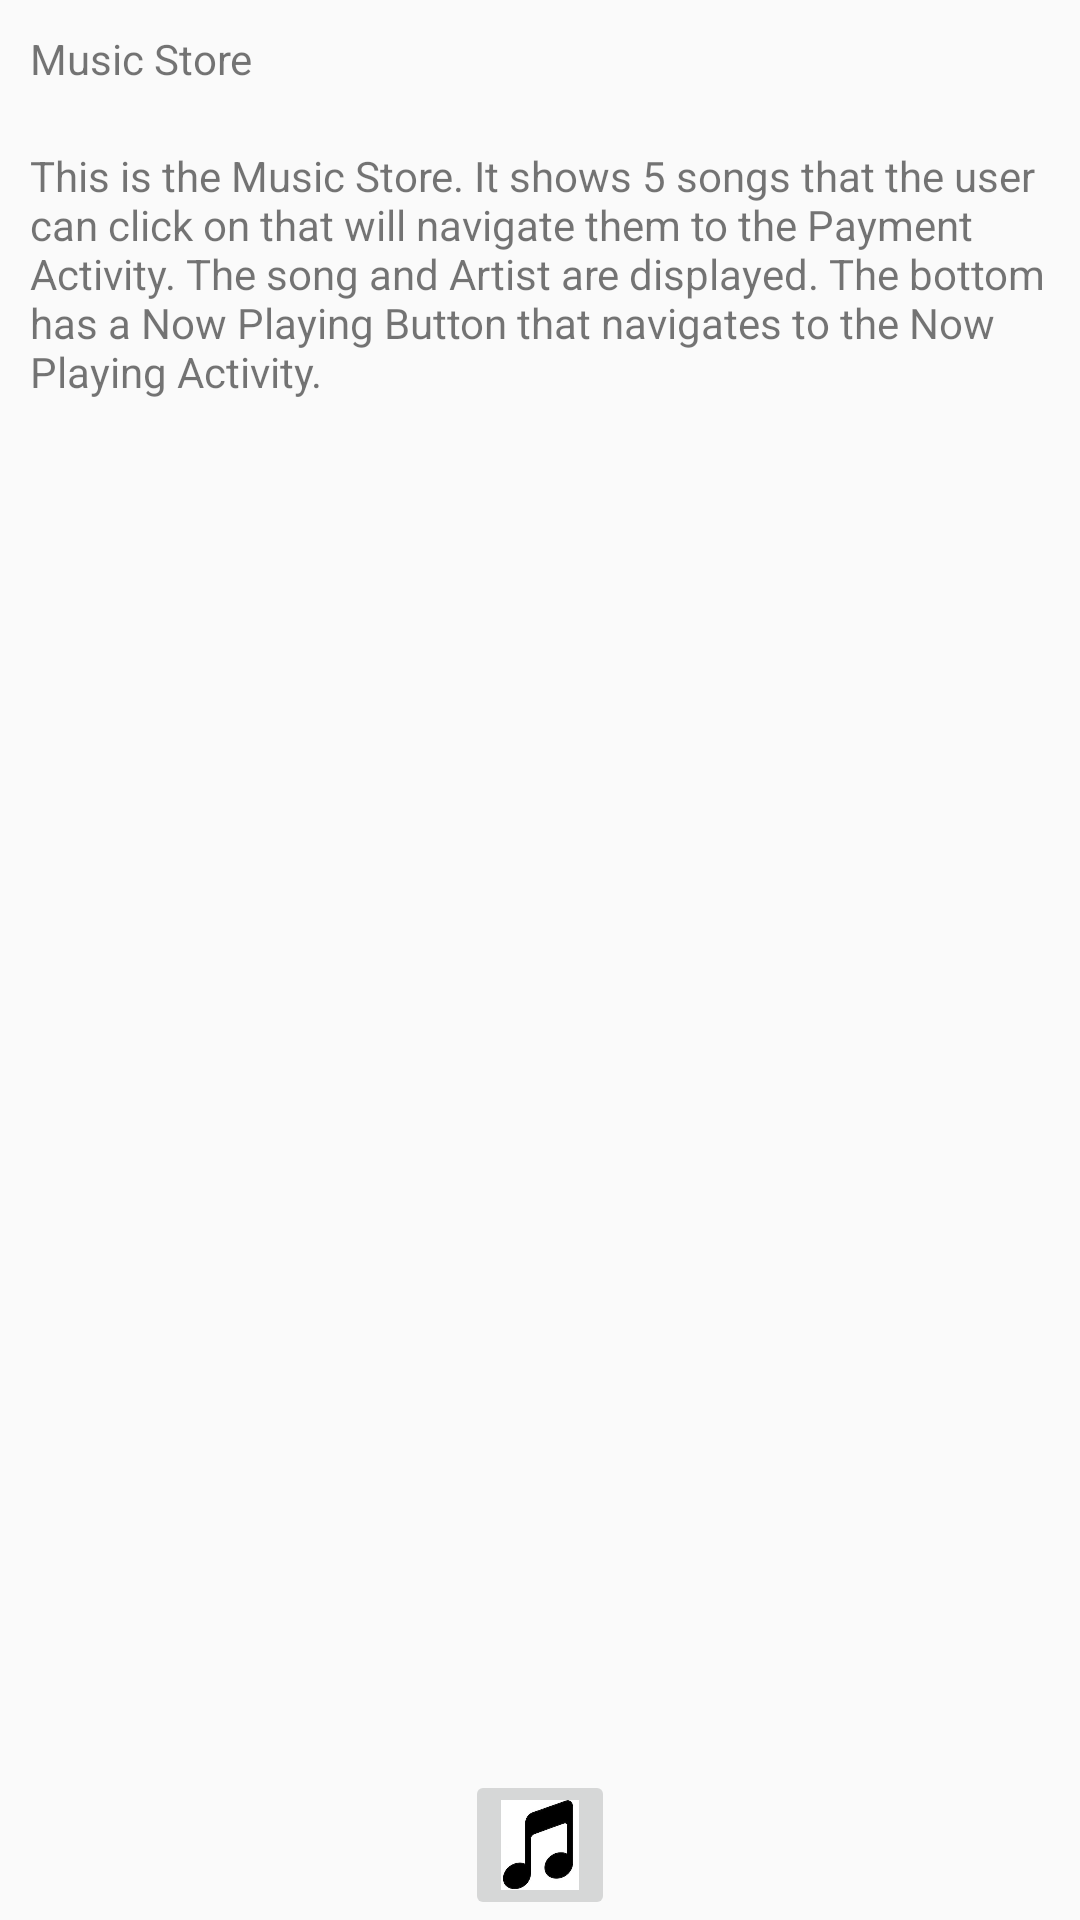

Icons on this 1080 x 1920 Android screen, each with its box as detection(x1, y1, x2, y2):
music note: detection(477, 1788, 603, 1902)
